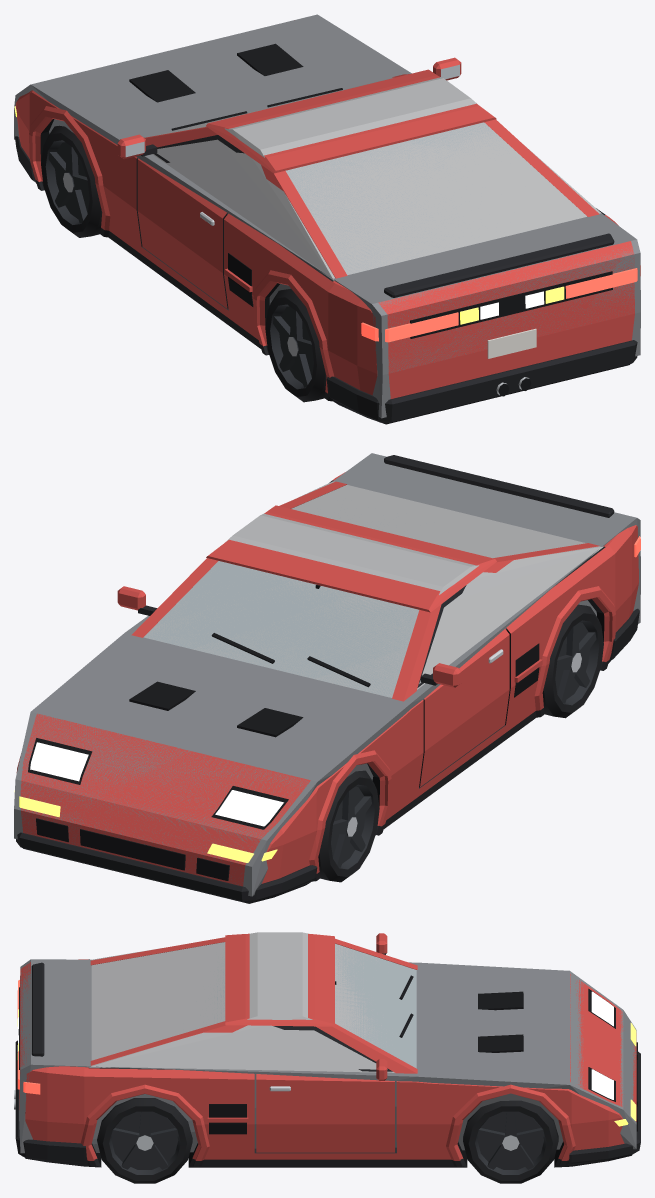
File: car_sports.glb
3 views of the same model, one above another, from view 1: azimuth 30°, elevation 25°; view 2: azimuth 150°, elevation 25°; view 3: azimuth 270°, elevation 25° (orthographic). The views are drawn at different scales.
Visible parts, largest first — view 1: car_sports__body, car_sports__col_cabin, car_sports__col_body, car_sports__door_fl, car_sports__wheel_rl, car_sports__wheel_fl; view 2: car_sports__body, car_sports__col_body, car_sports__col_cabin, car_sports__door_fl, car_sports__wheel_rl, car_sports__wheel_fl, car_sports__door_fr; view 3: car_sports__body, car_sports__col_cabin, car_sports__col_body, car_sports__door_fr, car_sports__wheel_rr, car_sports__wheel_fr.
Boxes of the visible parts, left/top/right/bottom form: car_sports__body: left=14, top=43, right=640, bottom=424; car_sports__col_cabin: left=152, top=77, right=601, bottom=280; car_sports__col_body: left=14, top=14, right=640, bottom=418; car_sports__door_fl: left=117, top=134, right=244, bottom=308; car_sports__wheel_rl: left=265, top=289, right=326, bottom=402; car_sports__wheel_fl: left=41, top=125, right=102, bottom=237; car_sports__body: left=14, top=455, right=640, bottom=903; car_sports__col_body: left=14, top=453, right=640, bottom=896; car_sports__col_cabin: left=144, top=481, right=603, bottom=697; car_sports__door_fl: left=417, top=585, right=509, bottom=787; car_sports__wheel_rl: left=542, top=604, right=603, bottom=718; car_sports__wheel_fl: left=318, top=770, right=379, bottom=882; car_sports__door_fr: left=117, top=586, right=157, bottom=615; car_sports__body: left=14, top=933, right=640, bottom=1167; car_sports__col_cabin: left=89, top=932, right=416, bottom=1072; car_sports__col_body: left=19, top=959, right=636, bottom=1153; car_sports__door_fr: left=256, top=1026, right=394, bottom=1152; car_sports__wheel_rr: left=97, top=1098, right=192, bottom=1183; car_sports__wheel_fr: left=463, top=1100, right=558, bottom=1183.
Size of what is drawn, in the model's own units: 2.28 by 1.21 by 4.46.
9 materials, 2 textured.
